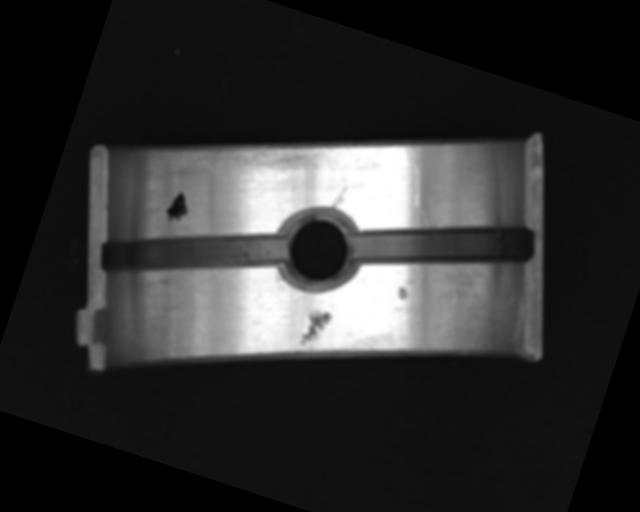blot: (162, 188, 193, 227)
bruise: (298, 305, 335, 352), (395, 283, 412, 303)
gap: (96, 183, 291, 320), (351, 181, 537, 309)
hole: (266, 194, 371, 300)
nick: (388, 142, 438, 208), (329, 183, 349, 213)
scratch: (156, 103, 315, 204)
